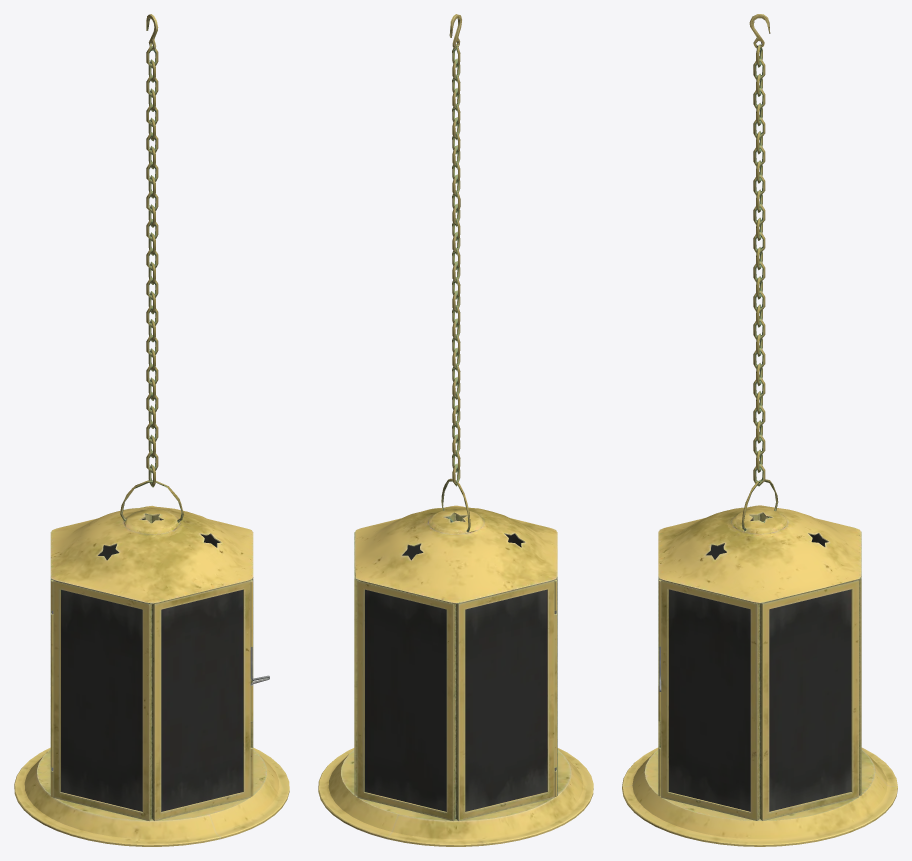
The model's file is brass_diya_lantern.glb.
3 views of the same model, side by side, from view 1: azimuth 30°, elevation 25°; view 2: azimuth 150°, elevation 25°; view 3: azimuth 270°, elevation 25° (orthographic).
Parts seen in each view (by area): view 1: brass_diya_lantern, brass_diya_lantern_connection; view 2: brass_diya_lantern, brass_diya_lantern_connection; view 3: brass_diya_lantern, brass_diya_lantern_connection.
Part boxes in pixels (left/top/right/bottom): brass_diya_lantern: left=14, top=505, right=289, bottom=846; brass_diya_lantern_connection: left=120, top=14, right=183, bottom=522; brass_diya_lantern: left=318, top=505, right=593, bottom=846; brass_diya_lantern_connection: left=441, top=14, right=470, bottom=531; brass_diya_lantern: left=622, top=505, right=897, bottom=846; brass_diya_lantern_connection: left=741, top=14, right=778, bottom=530.
Bounding box in the file's own units: 0.123 × 0.3807 × 0.123.
3 materials, 3 textured.
